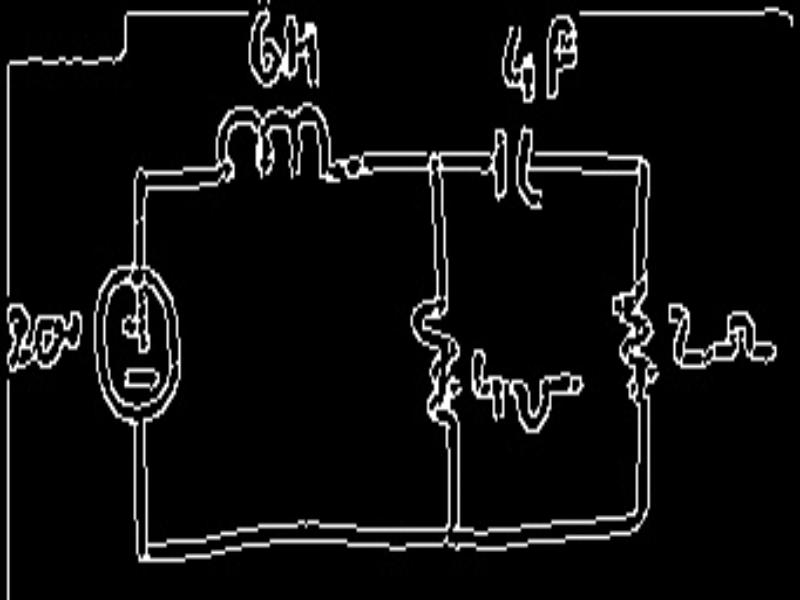-: (120, 364, 162, 393)
0: (33, 308, 70, 371)
2: (659, 299, 709, 372), (5, 298, 34, 375)
4: (498, 22, 538, 111), (468, 344, 505, 427)
6: (245, 7, 285, 92)
F: (541, 13, 582, 105)
V: (506, 368, 587, 436)
k: (282, 10, 322, 95)
